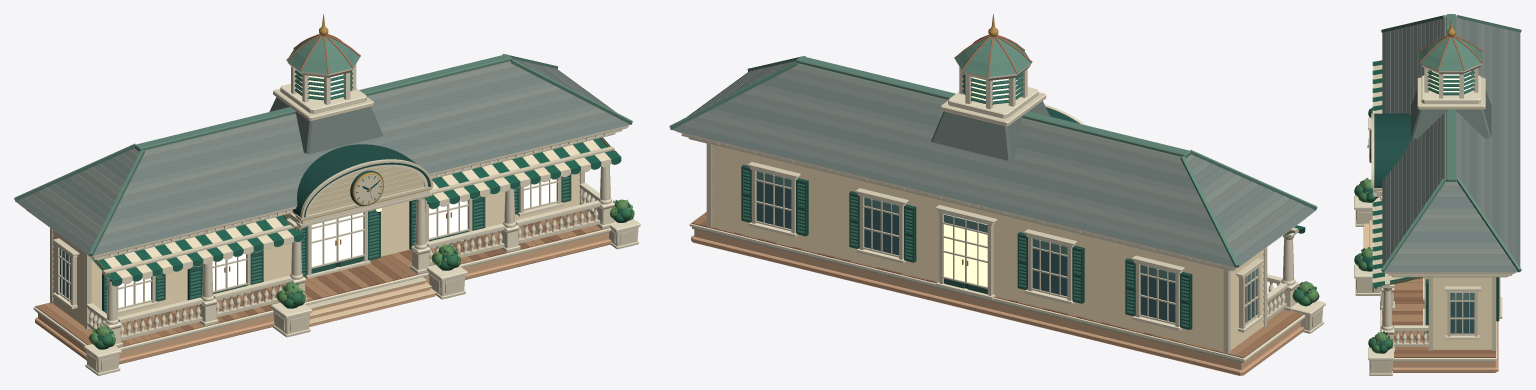
File: emerald_pavilion.glb
3 renders of one model, left to right at view 1: azimuth 30°, elevation 25°; view 2: azimuth 150°, elevation 25°; view 3: azimuth 270°, elevation 25°, orthographic. The views are drawn at different scales.
Parts seen in each view (by area): view 1: Shingles, Joinery, Canvas, Limewash, Metalwork, Timber, CutStone, VenueLampGlow, Leaves; view 2: Shingles, Joinery, Limewash, CutStone, Metalwork, WindowGlass, VenueLampGlow, Timber; view 3: Shingles, Joinery, Metalwork, Limewash, Timber, Canvas, CutStone, Leaves, WindowGlass, VenueLampGlow.
Part boxes in pixels (x1,y1,x2,y2): Shingles: (15, 58, 631, 256); Joinery: (21, 60, 640, 375); Canvas: (91, 137, 621, 286); Limewash: (52, 167, 579, 326); Metalwork: (14, 14, 632, 275); Timber: (35, 210, 607, 347); CutStone: (35, 233, 611, 364); VenueLampGlow: (118, 74, 556, 307); Leaves: (88, 199, 634, 349); Shingles: (670, 61, 1316, 267); Joinery: (676, 61, 1325, 363); Limewash: (712, 145, 1264, 351); CutStone: (691, 229, 1304, 375); Metalwork: (669, 14, 1317, 267); WindowGlass: (756, 171, 1256, 322); VenueLampGlow: (944, 77, 1017, 286); Timber: (691, 212, 1303, 358); Shingles: (1382, 17, 1520, 272); Joinery: (1354, 63, 1516, 375); Metalwork: (1367, 14, 1521, 287); Limewash: (1382, 188, 1491, 349); Timber: (1382, 277, 1495, 357); Canvas: (1372, 60, 1420, 291); CutStone: (1363, 220, 1498, 372); Leaves: (1354, 107, 1392, 353); WindowGlass: (1451, 293, 1473, 333); VenueLampGlow: (1432, 71, 1470, 92).
Size of the model in its own units: 17.87 by 8.26 by 5.24.
